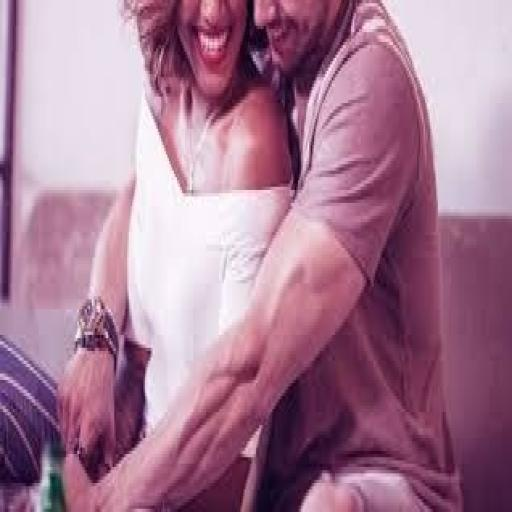hugging: (56, 0, 464, 509)
